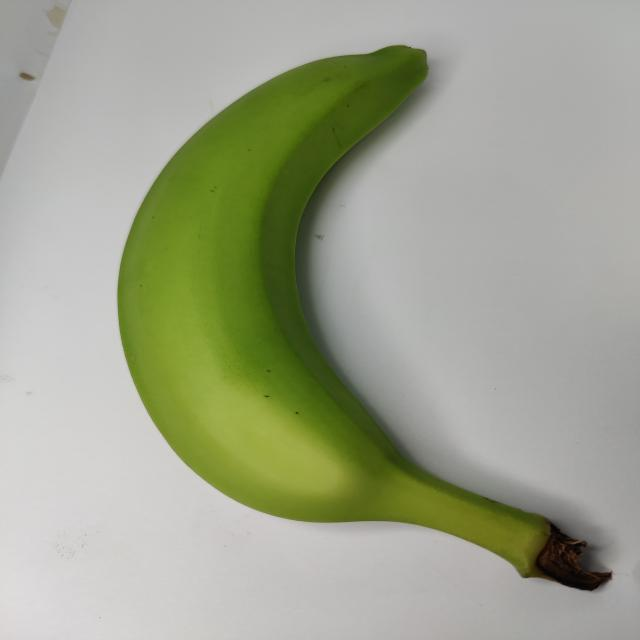raw: (90, 10, 610, 624)
